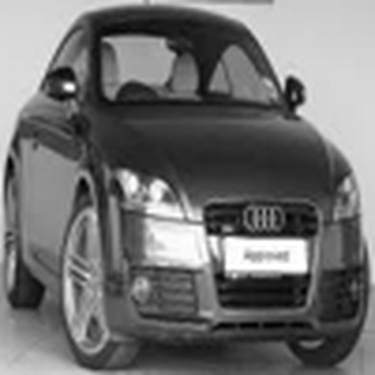car: (3, 4, 367, 373)
